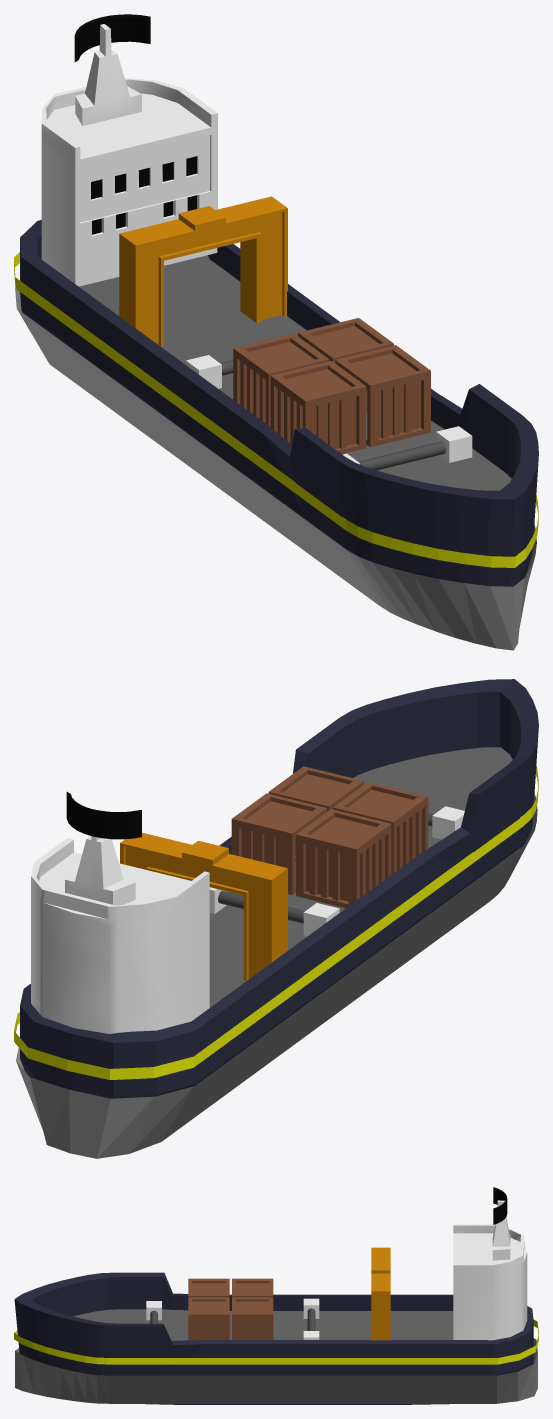
File: cimpletoon.f32c67875649.transport.glb
3 views of the same model, one above another, from view 1: azimuth 30°, elevation 25°; view 2: azimuth 150°, elevation 25°; view 3: azimuth 270°, elevation 25° (orthographic). The views are drawn at different scales.
Visible parts, largest first — view 1: transport.glb; view 2: transport.glb; view 3: transport.glb.
Part boxes in pixels (left/top/right/bottom): transport.glb: left=14, top=14, right=538, bottom=650; transport.glb: left=14, top=679, right=538, bottom=1158; transport.glb: left=14, top=1187, right=538, bottom=1404.
Size of the model in its own units: 1.01 by 1.76 by 4.21.
1 material, 1 textured.
